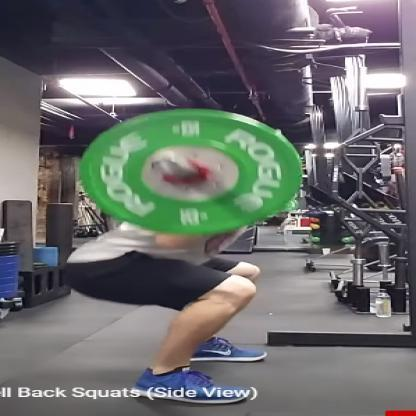barbell: (77, 106, 304, 237)
